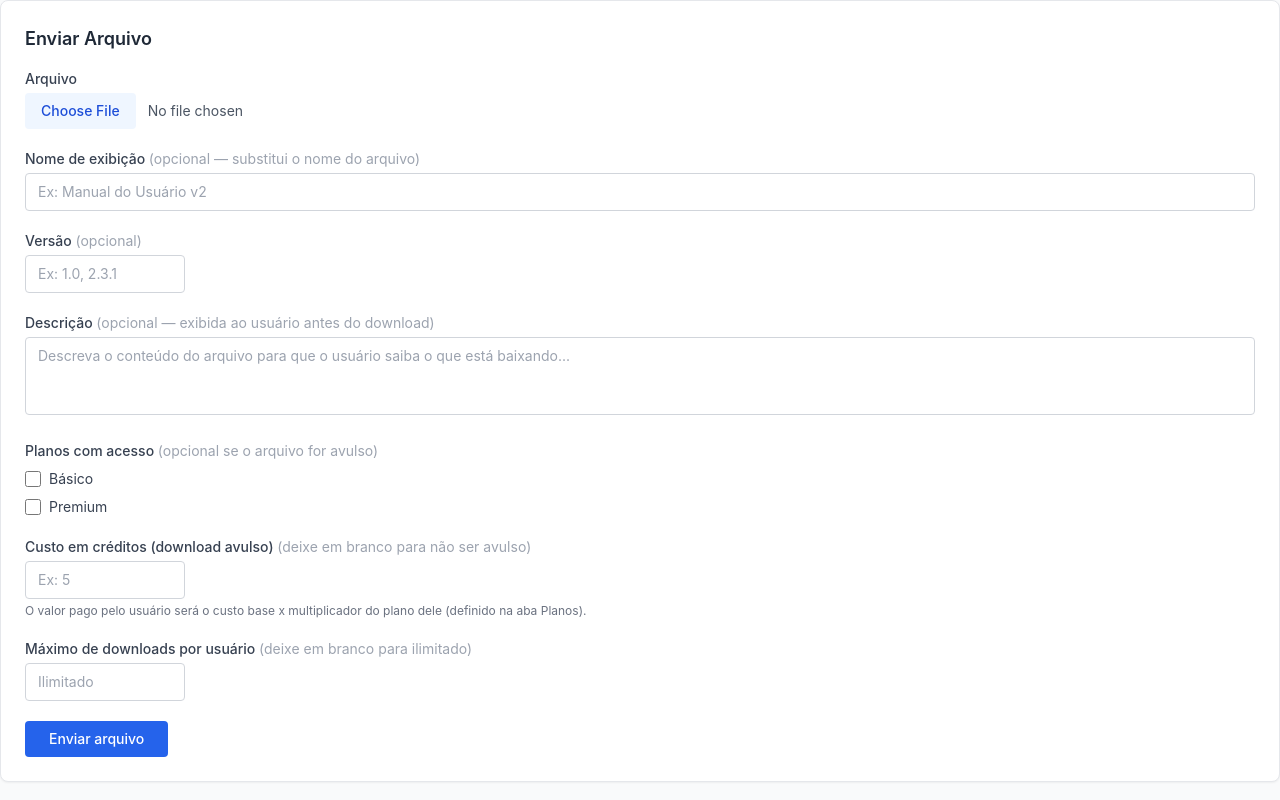
Test case: FileUpload component › shows validation error when submitting without selecting a file
What coordinates should you click on to do the following:
click the button "Enviar arquivo"
I would click on:
 (97, 739)
Its box is [25,721,168,757].
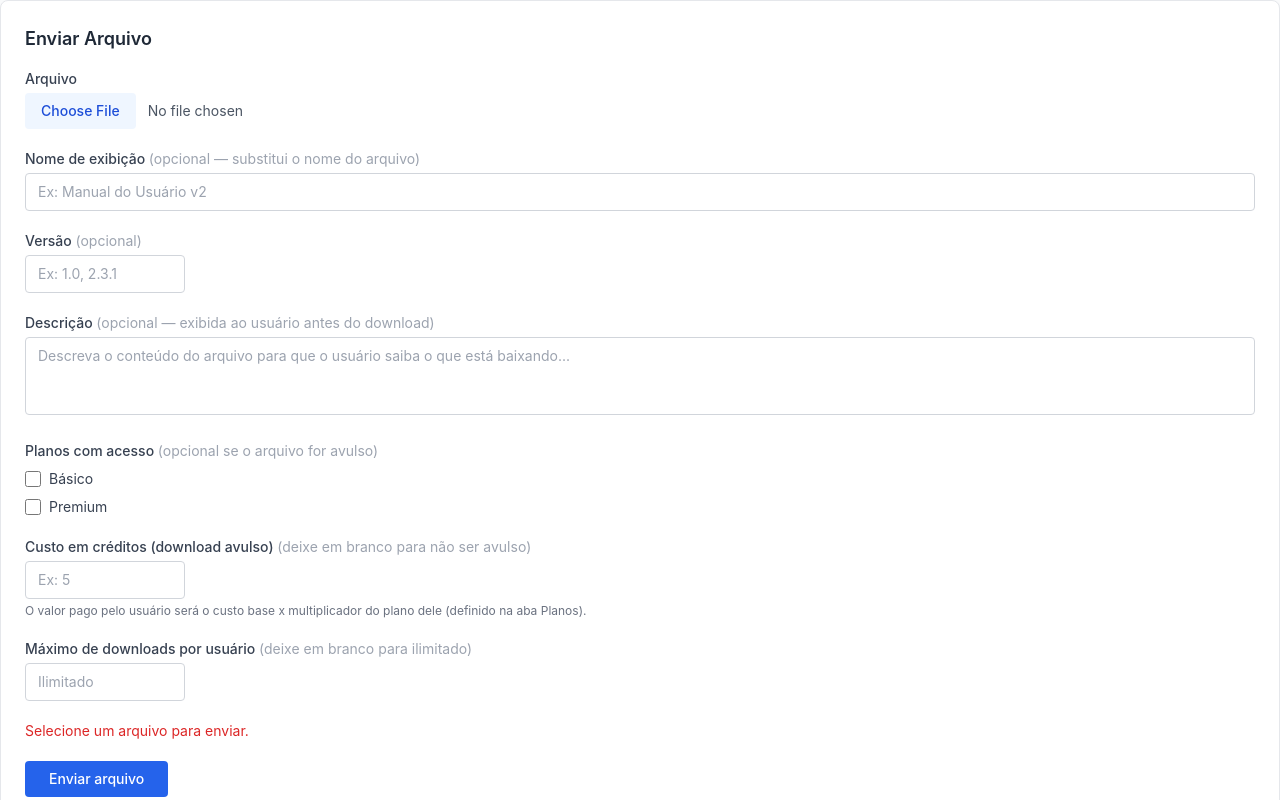
Check: the text "Selecione um arquivo para enviar." is shown, box [25,722,249,739]
